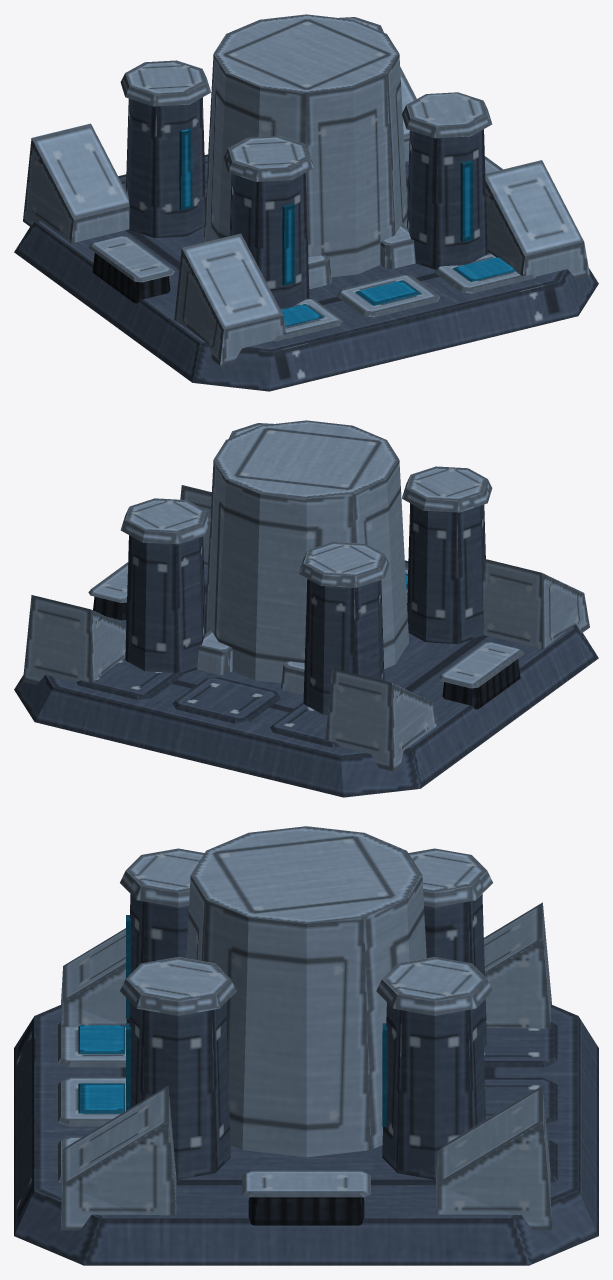
File: building-rare.fbx
3 renders of one model, top to bottom at view 1: azimuth 30°, elevation 25°; view 2: azimuth 150°, elevation 25°; view 3: azimuth 270°, elevation 25°, orthographic. The views are drawn at different scales.
Visible parts, largest first — view 1: building-rare; view 2: building-rare; view 3: building-rare.
Boxes of the visible parts, x1,y1,x2,y2 form: building-rare: (14, 14, 598, 391); building-rare: (14, 420, 598, 797); building-rare: (14, 826, 598, 1265).
Size of the model in its own units: 2184 by 1100 by 2184.
1 material, 1 textured.
